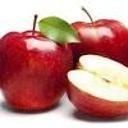apple: (65, 54, 128, 119)
